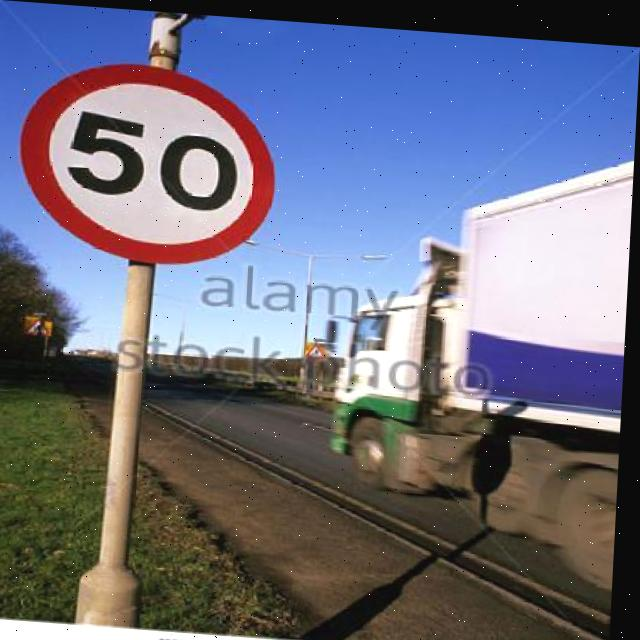Speed limit 50: (14, 52, 285, 271)
